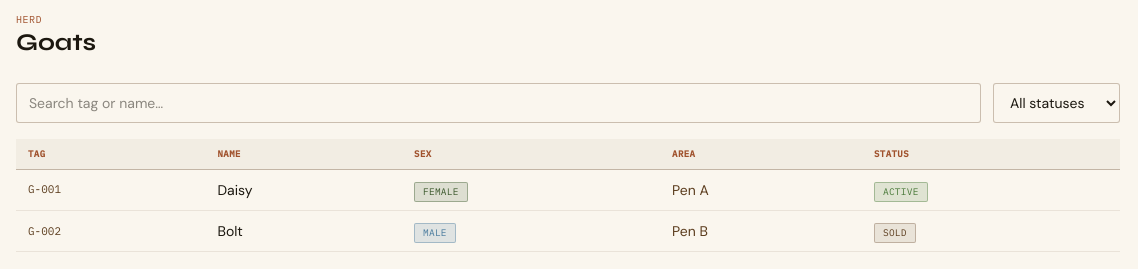
Test case: GoatList page › filters by status
Expected: the text "G-001" is shown, [16,169,206,210]
Select "Sold" in the dropdown named "status" at coordinates (1056, 103), box [993,83,1120,123]
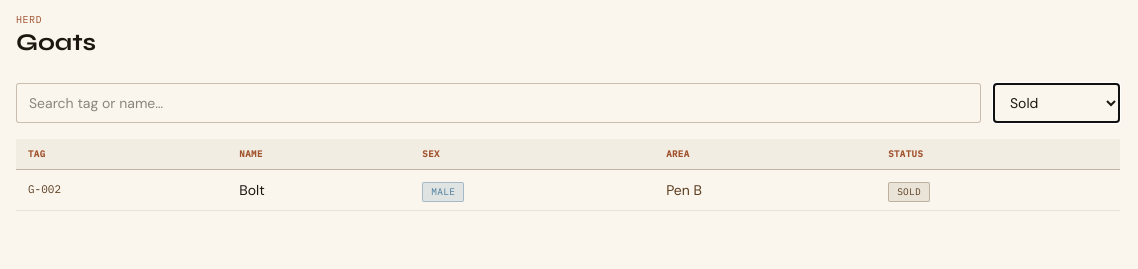
Expected: the text "G-002" is shown, [16,169,227,210]
Expected: the text "G-001" is gone
